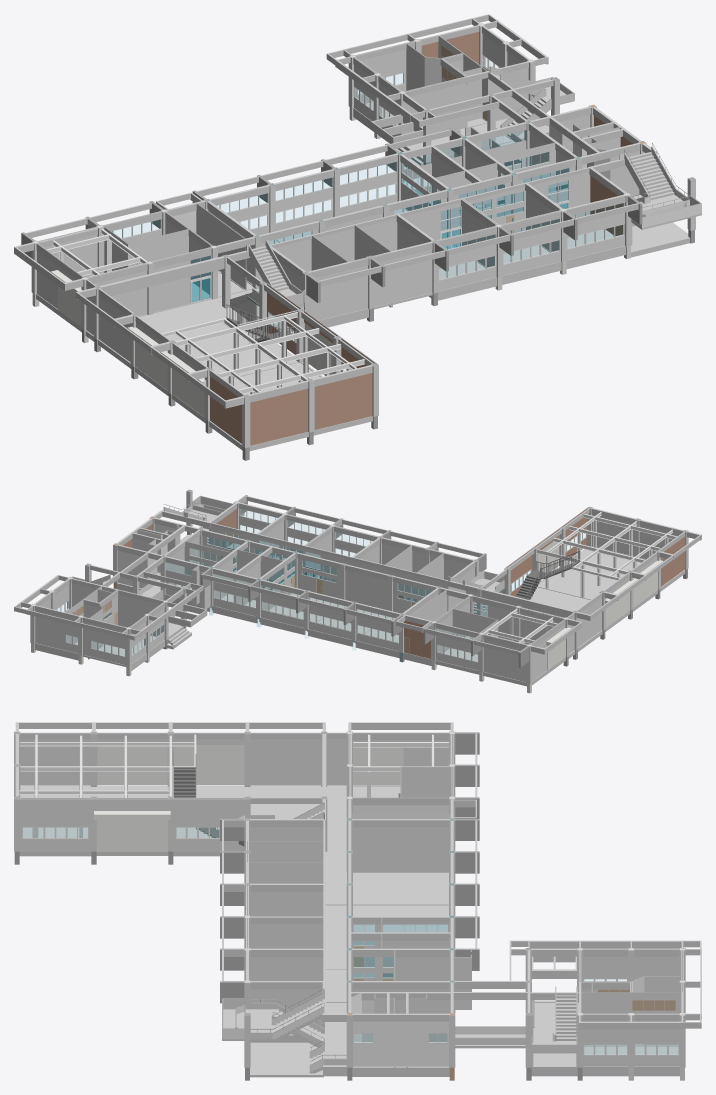
The picture shows the model from 3 angles, top to bottom: view 1: azimuth 30°, elevation 25°; view 2: azimuth 150°, elevation 25°; view 3: azimuth 270°, elevation 25°; orthographic projection. The views are drawn at different scales.
Visible parts, largest first — view 1: EN1200199, EN1200103, EN1200104, EN1200101, EN1200113, EN1200112, EN1200111, EN1200109, EN1200105, EN1200106, EN1200110, EN1200102 (+2 smaller); view 2: EN1200199, EN1200104, EN1200103, EN1200101, EN1200105, EN1200106, EN1200102, EN1200107, EN1200113, EN1200112, EN1200111, EN1200109 (+2 smaller); view 3: EN1200199, EN1200103, EN1200104, EN1200101, EN1200107, EN1200102, EN1200105, EN1200113, EN1200112, EN1200111, EN1200108, EN1200106 (+2 smaller).
Boxes of the visible parts, bbox=[...] form: EN1200199: bbox=[65, 62, 701, 460]; EN1200103: bbox=[14, 201, 217, 343]; EN1200104: bbox=[192, 143, 453, 288]; EN1200101: bbox=[326, 28, 486, 149]; EN1200113: bbox=[525, 167, 642, 274]; EN1200112: bbox=[461, 184, 577, 284]; EN1200111: bbox=[397, 199, 513, 305]; EN1200109: bbox=[311, 225, 404, 321]; EN1200105: bbox=[385, 128, 517, 235]; EN1200106: bbox=[454, 120, 581, 211]; EN1200110: bbox=[354, 213, 448, 307]; EN1200102: bbox=[429, 14, 548, 120]; EN1200199: bbox=[72, 489, 701, 666]; EN1200104: bbox=[248, 551, 441, 658]; EN1200103: bbox=[423, 594, 582, 693]; EN1200101: bbox=[57, 589, 177, 676]; EN1200105: bbox=[201, 539, 295, 623]; EN1200106: bbox=[161, 528, 247, 611]; EN1200102: bbox=[14, 575, 102, 657]; EN1200107: bbox=[113, 516, 180, 592]; EN1200113: bbox=[208, 495, 293, 558]; EN1200112: bbox=[259, 507, 343, 576]; EN1200111: bbox=[304, 518, 388, 578]; EN1200109: bbox=[385, 538, 451, 598]; EN1200199: bbox=[14, 722, 583, 1080]; EN1200103: bbox=[346, 722, 479, 813]; EN1200104: bbox=[346, 818, 479, 966]; EN1200101: bbox=[577, 940, 701, 1045]; EN1200107: bbox=[346, 993, 455, 1080]; EN1200102: bbox=[576, 992, 701, 1080]; EN1200105: bbox=[346, 917, 479, 980]; EN1200113: bbox=[220, 948, 325, 1034]; EN1200112: bbox=[220, 916, 323, 980]; EN1200111: bbox=[220, 885, 323, 948]; EN1200108: bbox=[220, 818, 325, 862]; EN1200106: bbox=[346, 948, 479, 1013].
Size of what is drawn, in the model's own units: 55.9 by 6.75 by 53.77.
